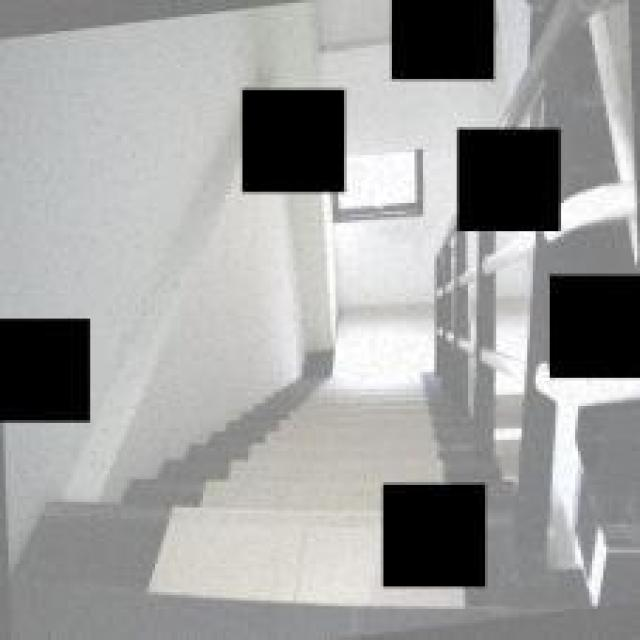downstair: (221, 407, 376, 616)
